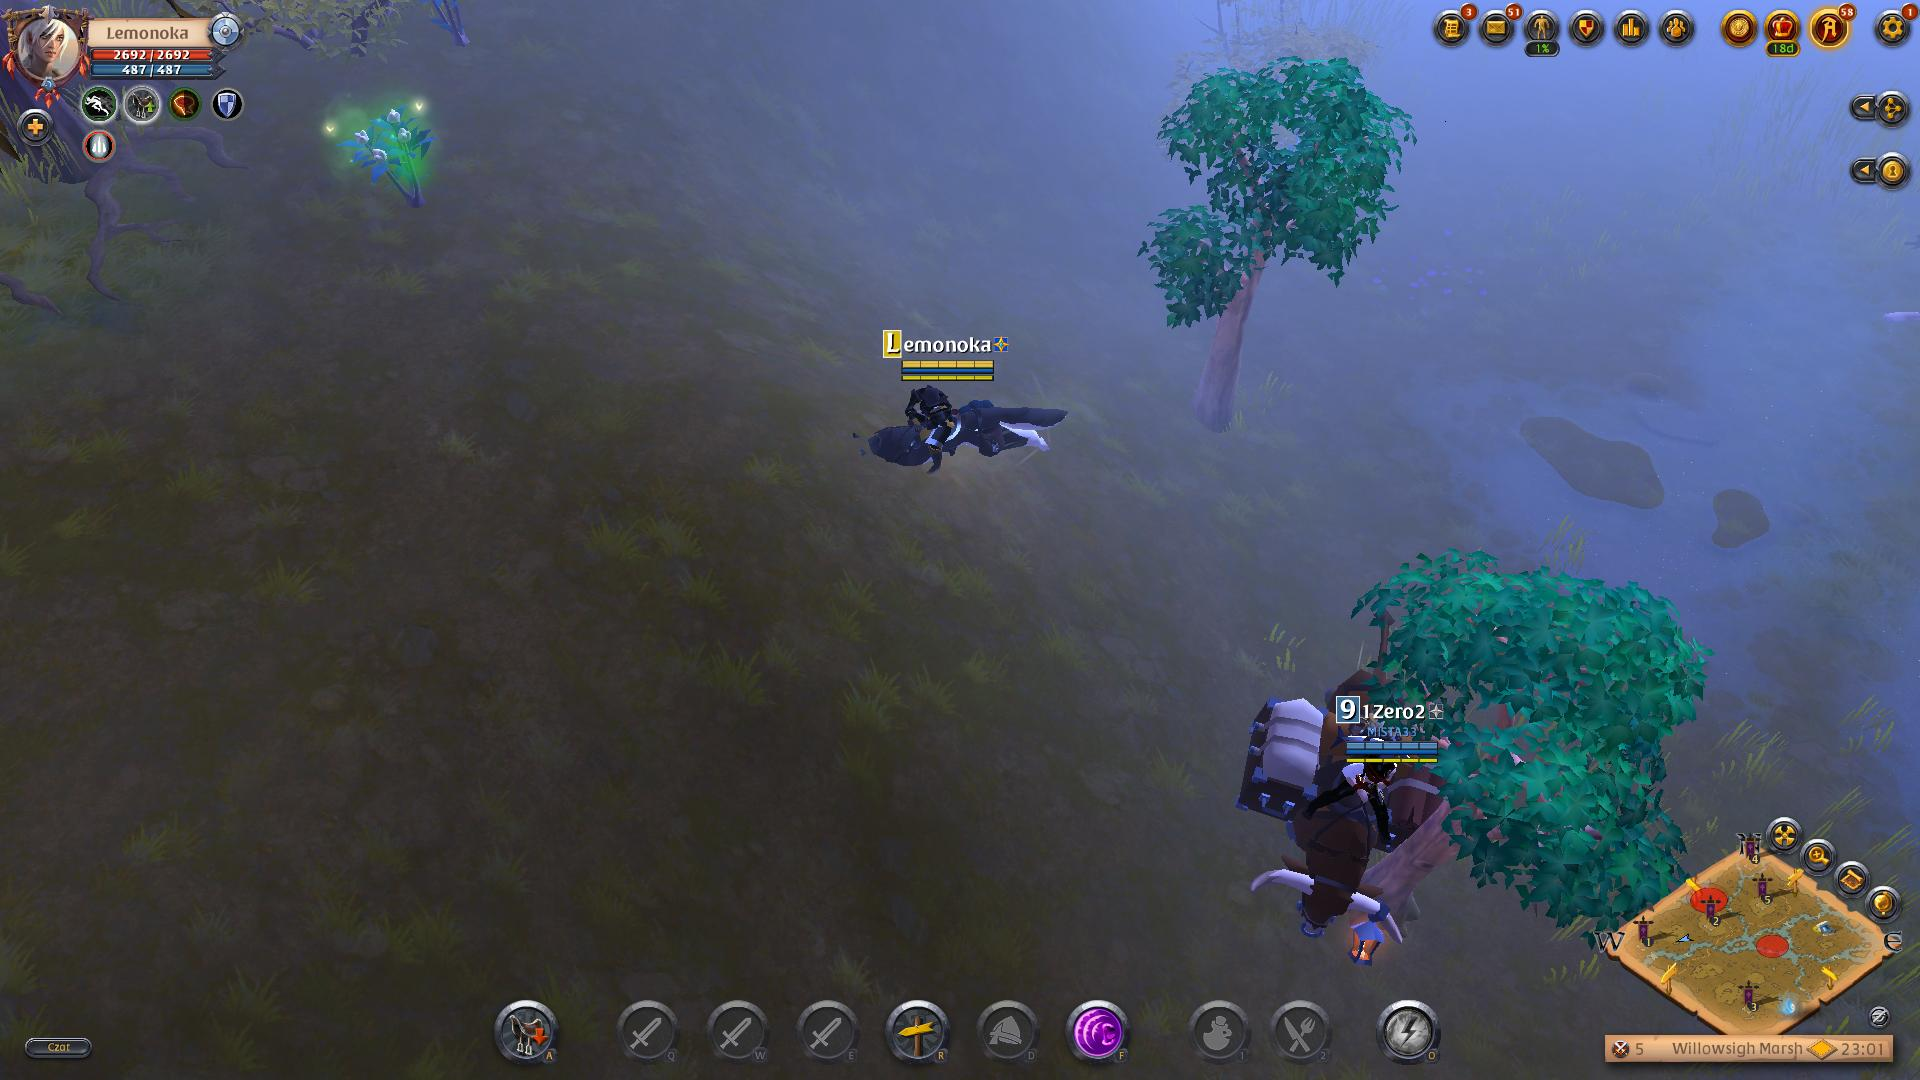fiber tier 4: (336, 102, 447, 208)
wood tier 3: (1142, 50, 1425, 322)
